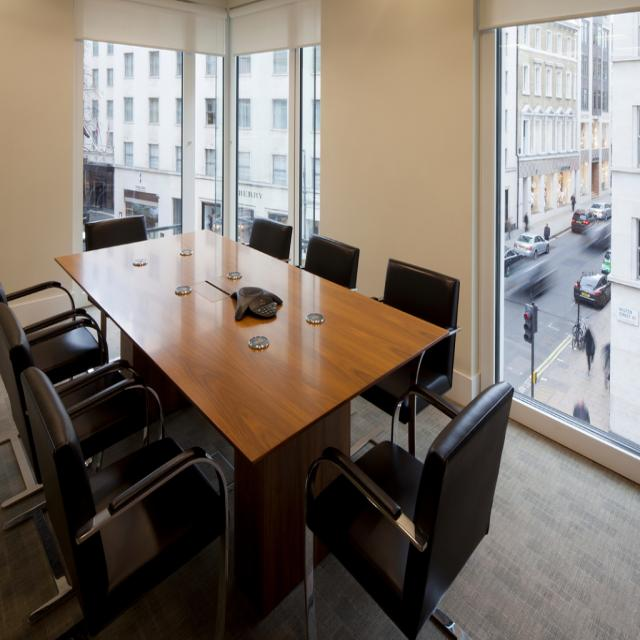chair: (20, 363, 232, 634), (304, 378, 514, 635), (370, 256, 460, 452), (303, 234, 360, 289), (88, 213, 148, 248), (249, 218, 293, 260)
desk: (54, 229, 445, 640)
person: (584, 326, 596, 373), (572, 396, 590, 424)
